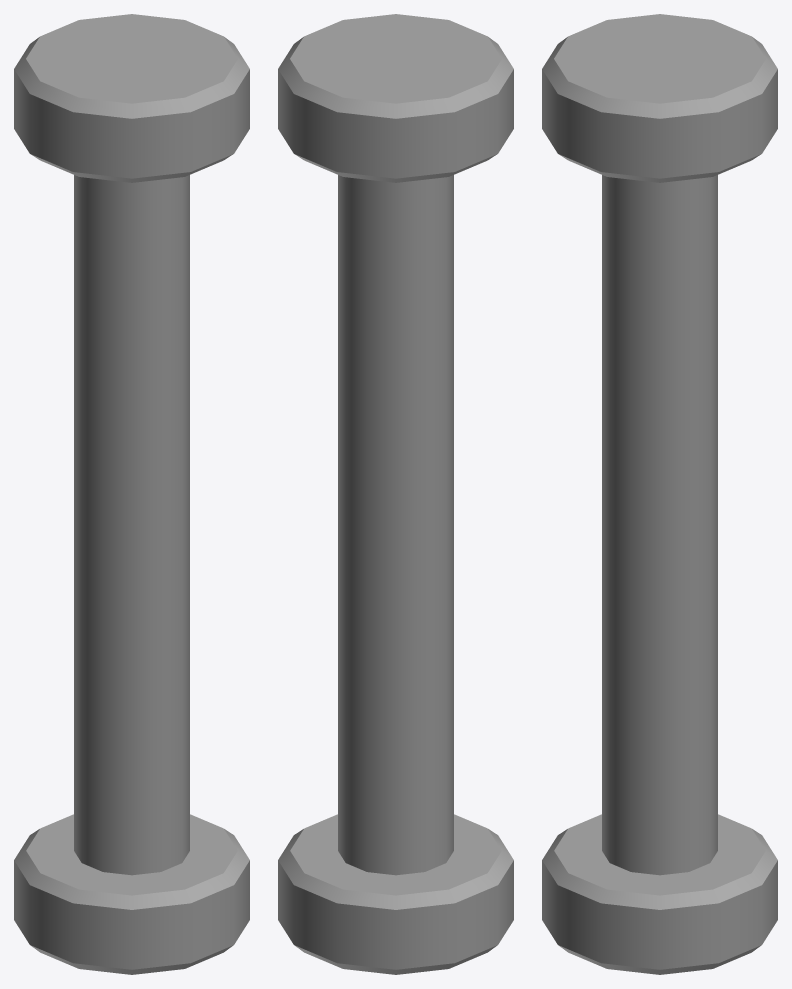
File: DoorwayHandle_9.obj
3 renders of one model, left to right at view 1: azimuth 30°, elevation 25°; view 2: azimuth 150°, elevation 25°; view 3: azimuth 270°, elevation 25°, orthographic.
Parts seen in each view (by area): view 1: DoorwayHandle_9; view 2: DoorwayHandle_9; view 3: DoorwayHandle_9.
Boxes of the visible parts, bbox=[...] form: DoorwayHandle_9: bbox=[14, 14, 249, 974]; DoorwayHandle_9: bbox=[278, 14, 513, 974]; DoorwayHandle_9: bbox=[542, 14, 777, 974].
Bounding box in the file's own units: 0.054 × 0.2199 × 0.054.
1 material, 1 textured.
